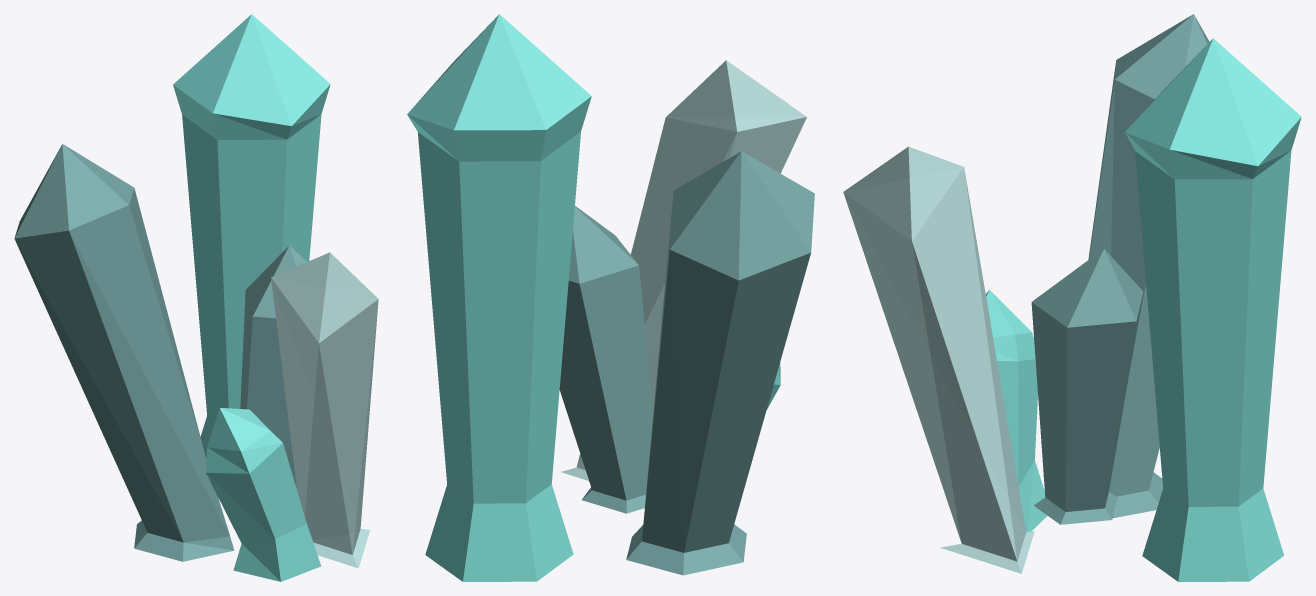
File: Crystal_blue_big.fbx
The picture shows the model from 3 angles, left to right: view 1: azimuth 30°, elevation 25°; view 2: azimuth 150°, elevation 25°; view 3: azimuth 270°, elevation 25°; orthographic projection. The views are drawn at different scales.
Visible parts, largest first — view 1: prop_crystal_blue_big; view 2: prop_crystal_blue_big; view 3: prop_crystal_blue_big.
Boxes of the visible parts, x1,y1,x2,y2 form: prop_crystal_blue_big: [14, 14, 378, 581]; prop_crystal_blue_big: [407, 14, 814, 581]; prop_crystal_blue_big: [843, 14, 1301, 581].
Size of the model in its own units: 72.14 by 102 by 82.07.
